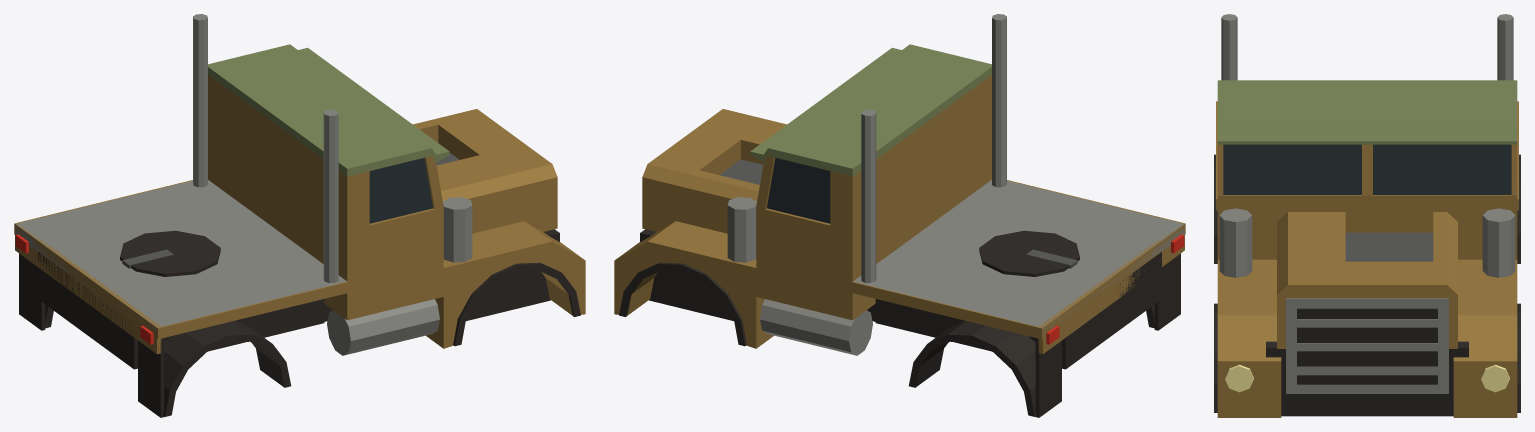
The model's file is base_tractor.glb.
The picture shows the model from 3 angles, left to right: view 1: azimuth 30°, elevation 25°; view 2: azimuth 150°, elevation 25°; view 3: azimuth 270°, elevation 25°; orthographic projection. The views are drawn at different scales.
Parts seen in each view (by area): view 1: base_tractor; view 2: base_tractor; view 3: base_tractor.
Part boxes in pixels (x1,y1,x2,y2): base_tractor: [14, 14, 585, 417]; base_tractor: [614, 14, 1185, 417]; base_tractor: [1214, 14, 1520, 417].
Size of the model in its own units: 5.85 by 3.32 by 3.39.
